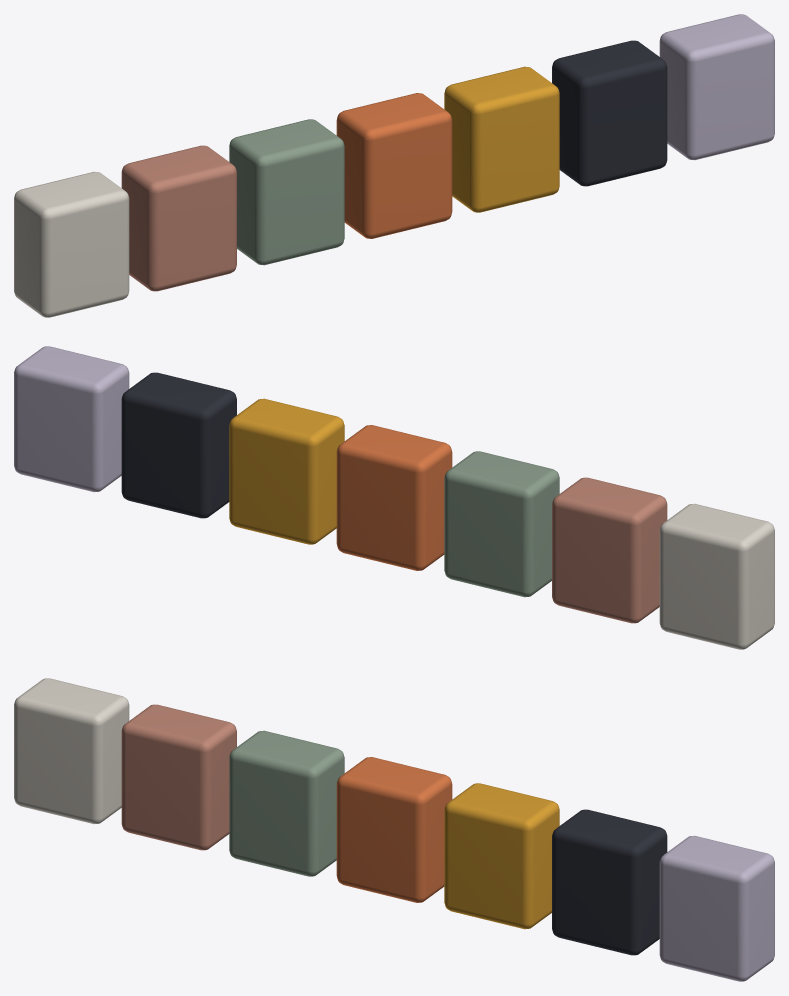
The model's file is p1a_palette_card.glb.
The picture shows the model from 3 angles, top to bottom: view 1: azimuth 30°, elevation 25°; view 2: azimuth 150°, elevation 25°; view 3: azimuth 330°, elevation 25°; orthographic projection.
Visible parts, largest first — view 1: Swatch_F7F1E6, Swatch_F28A52, Swatch_3A3D48, Swatch_9FB4A0, Swatch_D99B87, Swatch_F5B53A, Swatch_D8CFE6; view 2: Swatch_F7F1E6, Swatch_F28A52, Swatch_3A3D48, Swatch_9FB4A0, Swatch_D99B87, Swatch_F5B53A, Swatch_D8CFE6; view 3: Swatch_D8CFE6, Swatch_F28A52, Swatch_D99B87, Swatch_3A3D48, Swatch_F5B53A, Swatch_9FB4A0, Swatch_F7F1E6.
Boxes of the visible parts, x1,y1,x2,y2 form: Swatch_F7F1E6: (14, 171, 129, 317); Swatch_F28A52: (336, 93, 452, 238); Swatch_3A3D48: (552, 40, 667, 186); Swatch_9FB4A0: (229, 119, 344, 265); Swatch_D99B87: (121, 145, 236, 291); Swatch_F5B53A: (444, 66, 559, 212); Swatch_D8CFE6: (659, 14, 774, 160); Swatch_F7F1E6: (659, 503, 774, 649); Swatch_F28A52: (336, 425, 452, 570); Swatch_3A3D48: (121, 372, 236, 518); Swatch_9FB4A0: (444, 451, 559, 597); Swatch_D99B87: (552, 477, 667, 623); Swatch_F5B53A: (229, 398, 344, 544); Swatch_D8CFE6: (14, 346, 129, 492); Swatch_D8CFE6: (659, 835, 774, 981); Swatch_F28A52: (336, 757, 452, 902); Swatch_D99B87: (121, 704, 236, 850); Swatch_3A3D48: (552, 809, 667, 955); Swatch_F5B53A: (444, 783, 559, 929); Swatch_9FB4A0: (229, 730, 344, 876); Swatch_F7F1E6: (14, 678, 129, 824).
Bounding box in the file's own units: 7.03 × 1 × 0.55.
